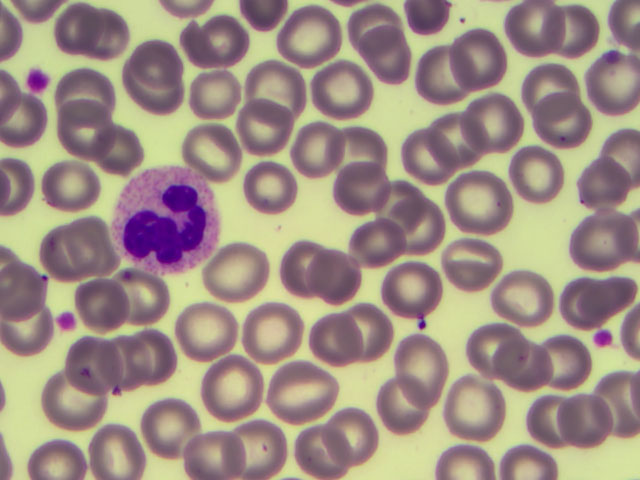Platelets: (25, 69, 47, 93), (54, 311, 77, 332), (593, 328, 613, 349), (416, 318, 429, 330)
RBC: (223, 416, 288, 480), (40, 160, 103, 218), (272, 361, 335, 419), (199, 361, 262, 419), (571, 210, 634, 268), (443, 381, 506, 439), (449, 171, 512, 229), (242, 302, 305, 360), (384, 198, 447, 256), (460, 94, 523, 152), (414, 44, 477, 102), (278, 6, 341, 64), (309, 60, 372, 118), (245, 62, 308, 120), (119, 54, 182, 112), (183, 123, 246, 181), (44, 369, 107, 427), (450, 27, 507, 91), (395, 337, 445, 409), (57, 99, 117, 157), (53, 68, 113, 126), (381, 258, 441, 316), (211, 244, 271, 302), (180, 302, 240, 360), (38, 223, 98, 281), (58, 213, 118, 271), (519, 62, 579, 120), (531, 91, 591, 149), (506, 146, 566, 204), (429, 110, 489, 168), (400, 126, 460, 184), (319, 404, 379, 462), (301, 244, 361, 302), (467, 321, 527, 379), (493, 268, 553, 326), (123, 59, 183, 117), (139, 401, 199, 459), (90, 422, 150, 480), (538, 1, 598, 58), (505, 1, 565, 58), (588, 49, 639, 115), (68, 336, 124, 395), (236, 97, 290, 158), (184, 429, 248, 480), (296, 423, 353, 480), (289, 122, 348, 177), (332, 160, 387, 217), (377, 373, 432, 430), (576, 150, 631, 207), (333, 303, 388, 360), (307, 308, 362, 365), (442, 239, 501, 292), (532, 336, 591, 389), (524, 392, 583, 445), (557, 392, 616, 445), (239, 163, 296, 215), (497, 336, 550, 388), (596, 376, 639, 440), (1, 263, 47, 321), (361, 31, 409, 86), (351, 214, 401, 266), (373, 181, 423, 233), (2, 306, 53, 356), (597, 128, 640, 187), (562, 276, 613, 325), (129, 41, 181, 89), (29, 437, 84, 480), (201, 14, 249, 63), (351, 4, 399, 53), (53, 5, 101, 54), (79, 5, 127, 54), (191, 70, 238, 119), (1, 94, 47, 143), (1, 158, 35, 220), (283, 240, 325, 290), (437, 442, 492, 480), (500, 445, 553, 480), (583, 274, 634, 310), (606, 1, 640, 51), (407, 1, 449, 33), (1, 6, 25, 61), (1, 67, 19, 126)
WBC: (113, 169, 221, 270)
